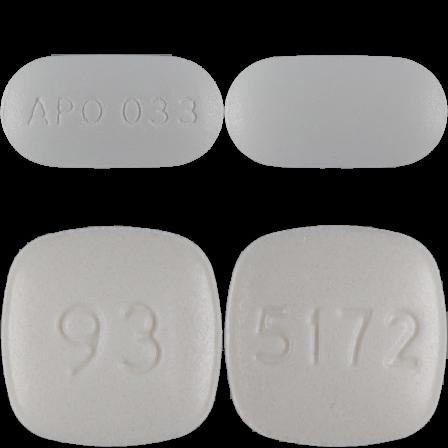33261-992: (0, 0, 224, 224)
